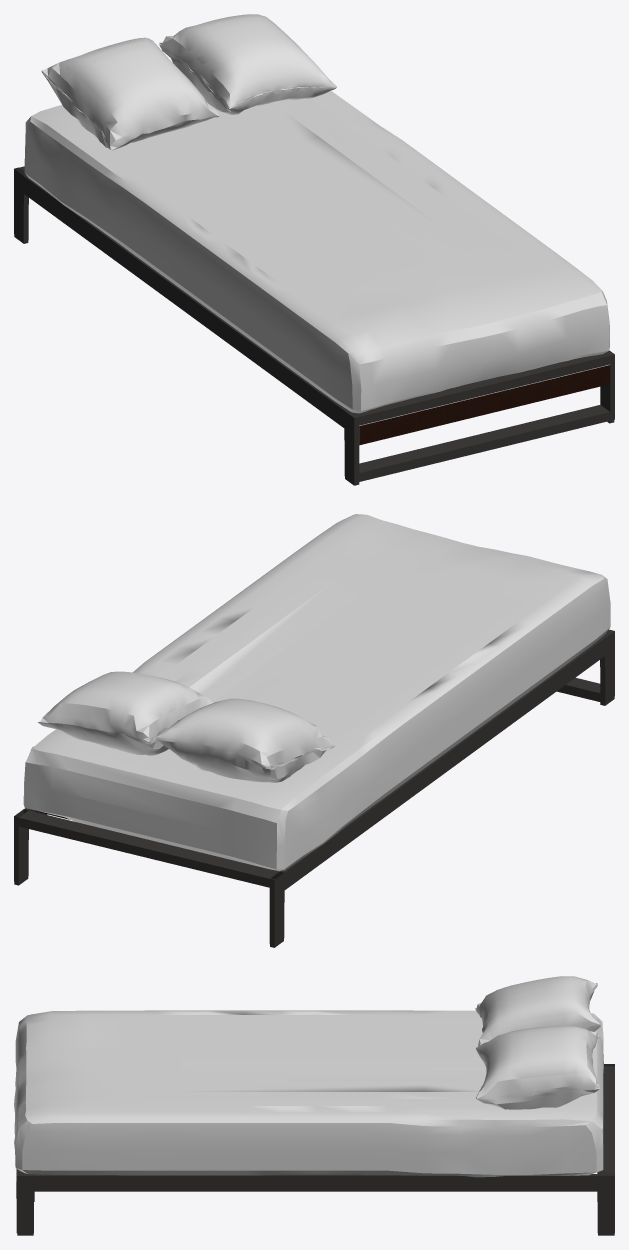
3 renders of one model, top to bottom at view 1: azimuth 30°, elevation 25°; view 2: azimuth 150°, elevation 25°; view 3: azimuth 270°, elevation 25°, orthographic. The views are drawn at different scales.
Visible parts, largest first — view 1: C-skp3161; view 2: C-skp3161; view 3: C-skp3161.
Part boxes in pixels (<box>): C-skp3161: <box>14,14,614,485</box>; C-skp3161: <box>14,514,614,947</box>; C-skp3161: <box>14,976,614,1235</box>.
Bounding box in the file's own units: 0.9199 × 0.6468 × 2.07.
Materials: 3 (1 with a texture image).
